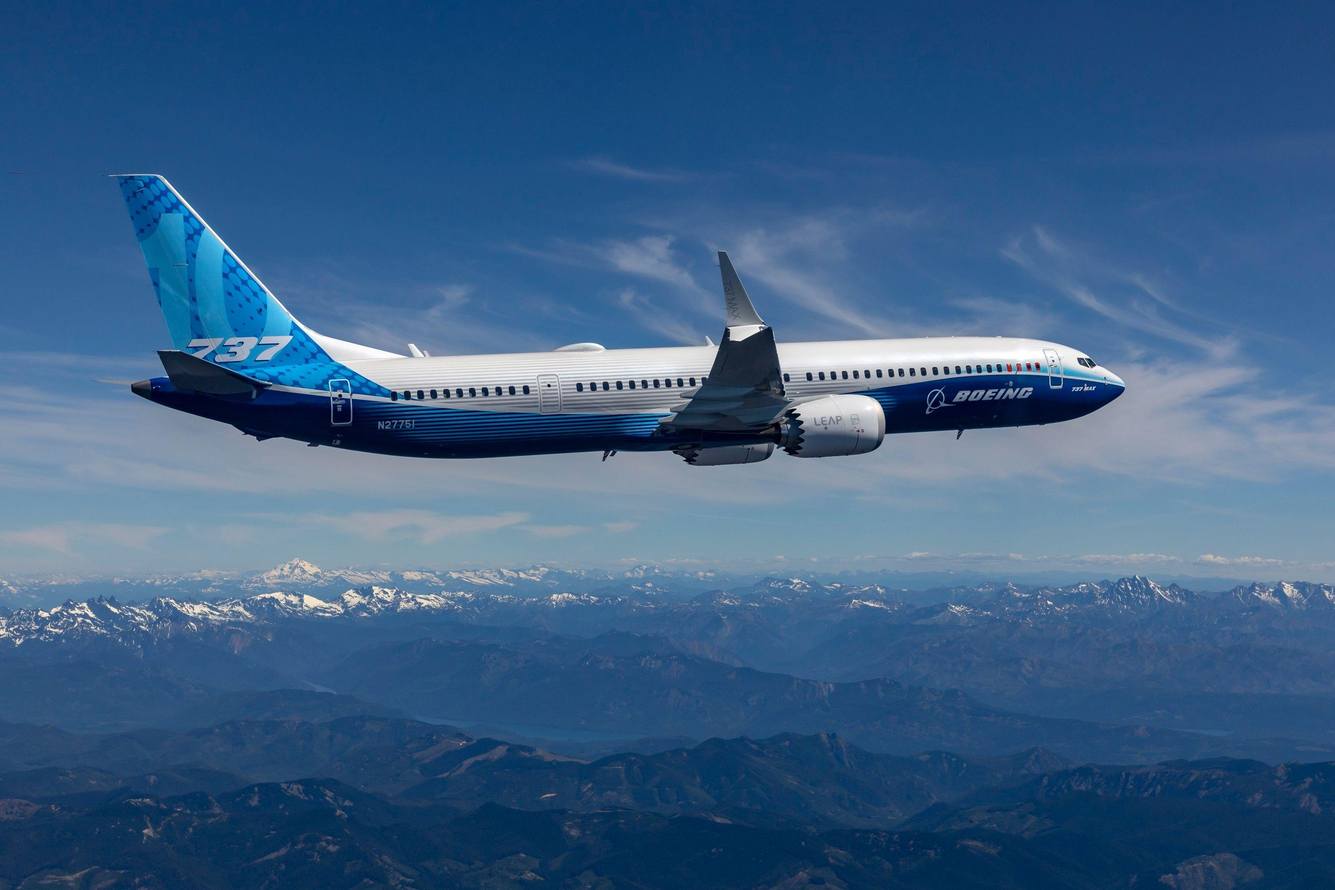aircraft: (106, 173, 1138, 467)
